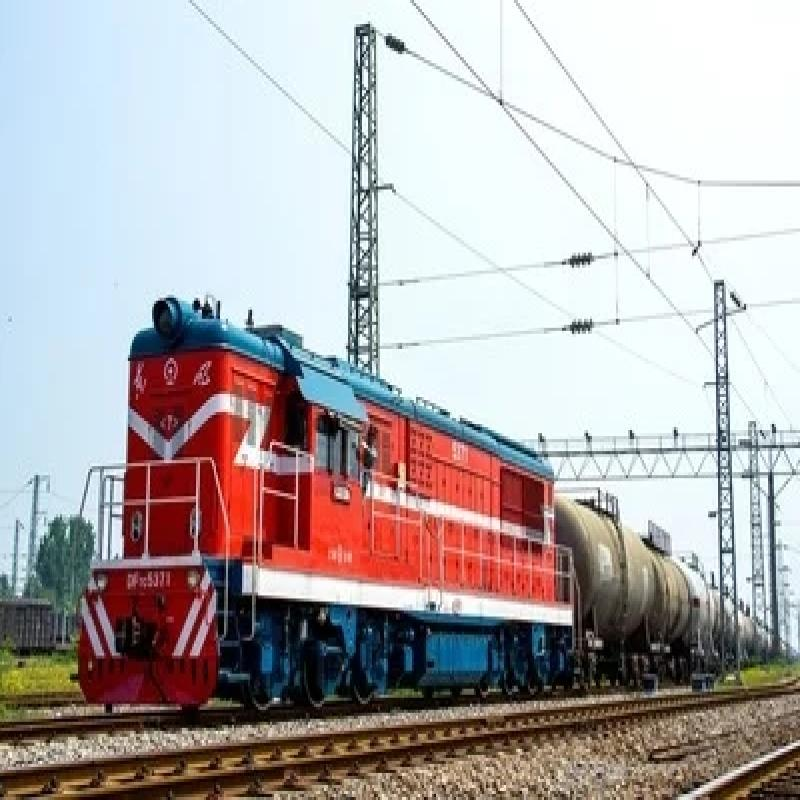train: (67, 287, 567, 723)
